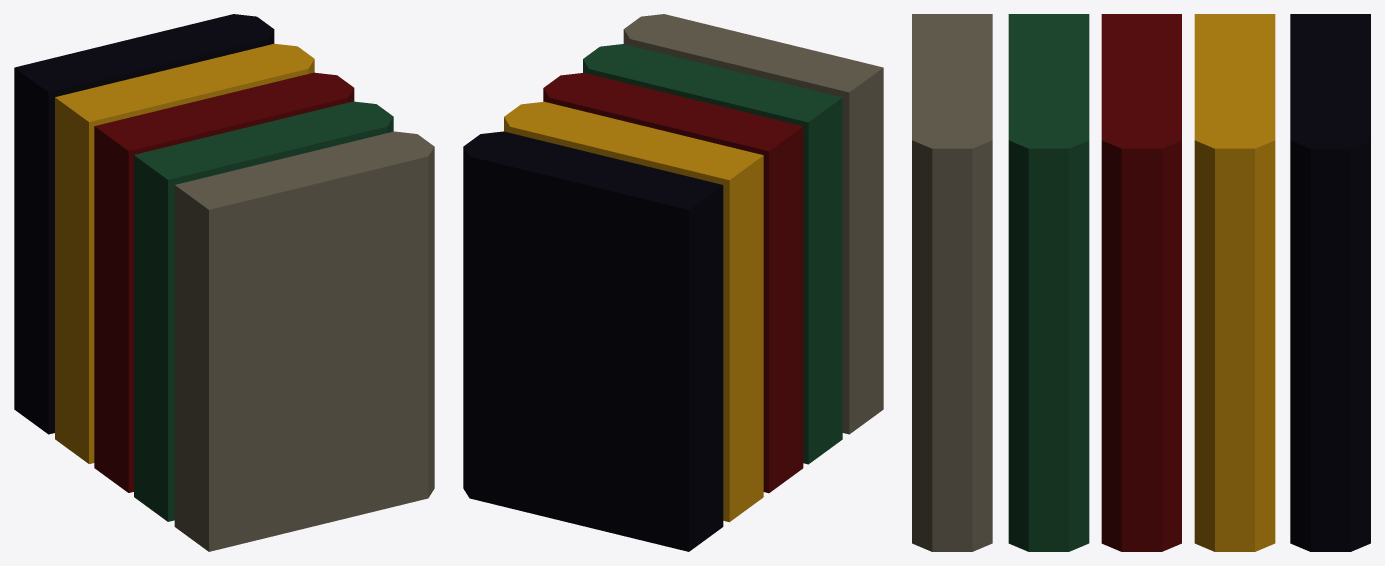
Rendered from books.dae.
3 renders of one model, left to right at view 1: azimuth 30°, elevation 25°; view 2: azimuth 150°, elevation 25°; view 3: azimuth 270°, elevation 25°, orthographic. The views are drawn at different scales.
Parts seen in each view (by area): view 1: pCube28; view 2: pCube28; view 3: pCube28.
Boxes of the visible parts, <box> form: pCube28: <box>14,14,434,551</box>; pCube28: <box>463,14,883,551</box>; pCube28: <box>912,14,1370,551</box>.
Size of the model in its own units: 5.96 by 8.32 by 8.58.
